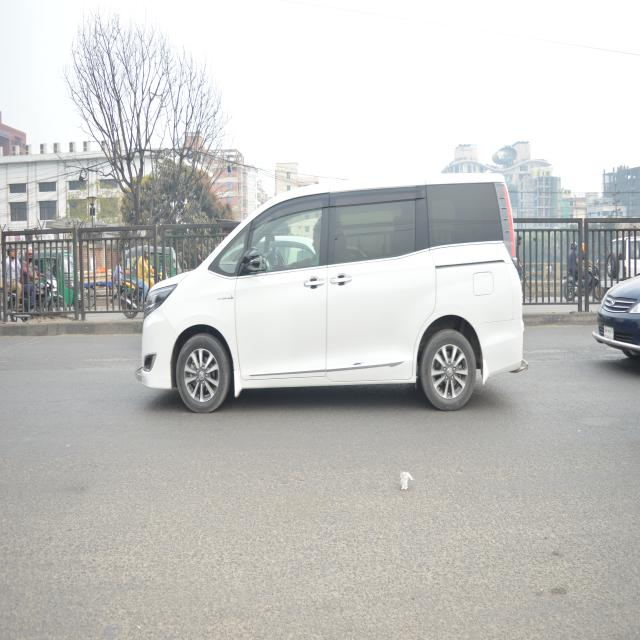car: (596, 268, 640, 362)
microbus: (150, 182, 534, 427)
motorbike: (1, 260, 67, 334), (562, 242, 608, 307), (120, 272, 150, 322)
